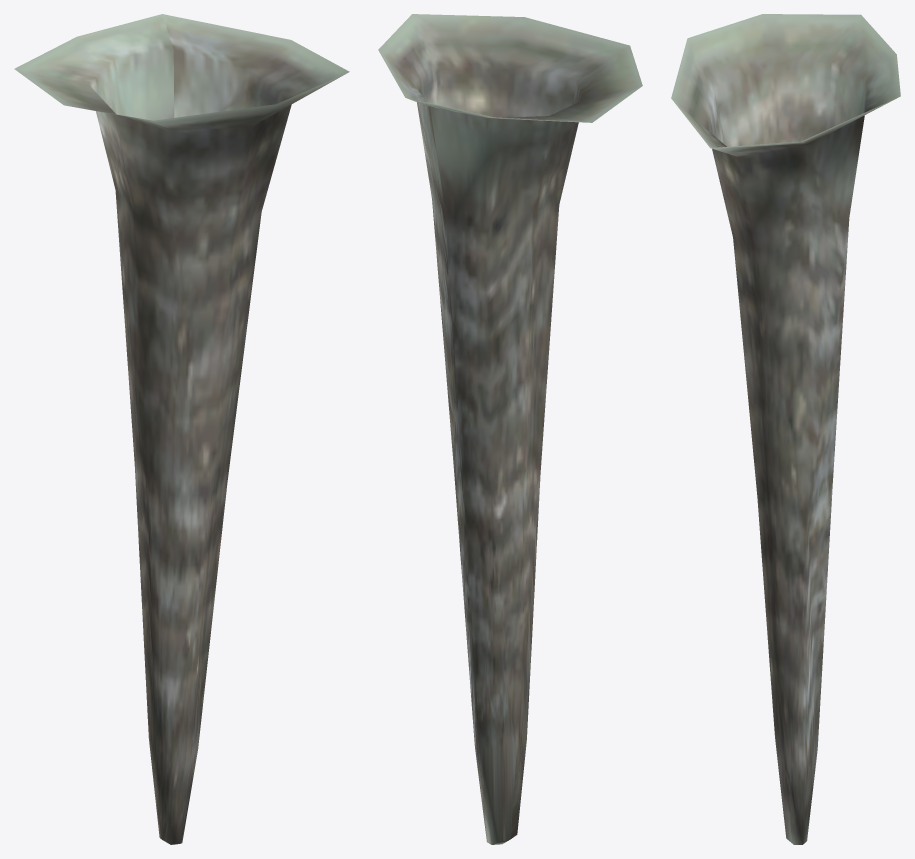
File: TROLLHOLE02_PS-UPPERSTALAG32.fbx
3 renders of one model, left to right at view 1: azimuth 30°, elevation 25°; view 2: azimuth 150°, elevation 25°; view 3: azimuth 270°, elevation 25°, orthographic. The views are drawn at different scales.
Visible parts, largest first — view 1: TROLLHOLE02_PS-UPPERSTALAG32; view 2: TROLLHOLE02_PS-UPPERSTALAG32; view 3: TROLLHOLE02_PS-UPPERSTALAG32.
Boxes of the visible parts, x1,y1,x2,y2 form: TROLLHOLE02_PS-UPPERSTALAG32: (14,14,349,844); TROLLHOLE02_PS-UPPERSTALAG32: (378,14,642,844); TROLLHOLE02_PS-UPPERSTALAG32: (671,14,900,844).
Size of the model in its own units: 10589 by 30540 by 8290.
Materials: 1 (1 with a texture image).
